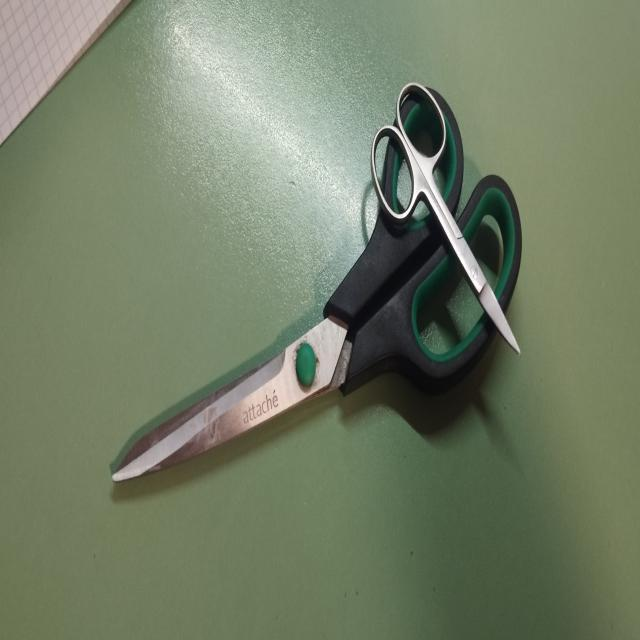tesoura: (106, 75, 526, 493), (370, 75, 524, 358)
